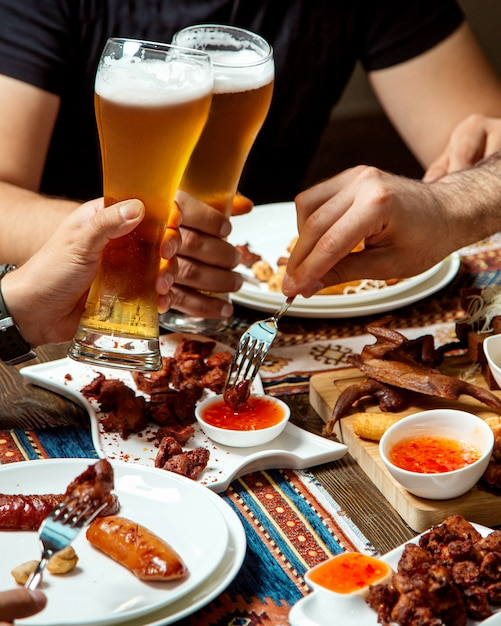alcohol: (66, 31, 212, 370), (164, 19, 280, 332)
